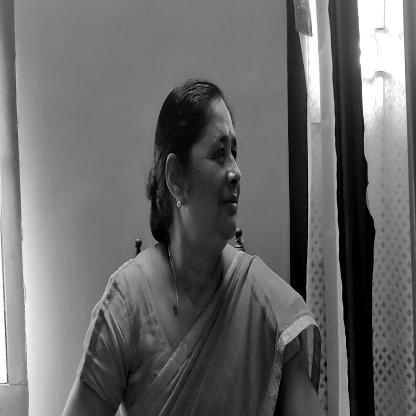Distracted: (152, 92, 247, 260)
